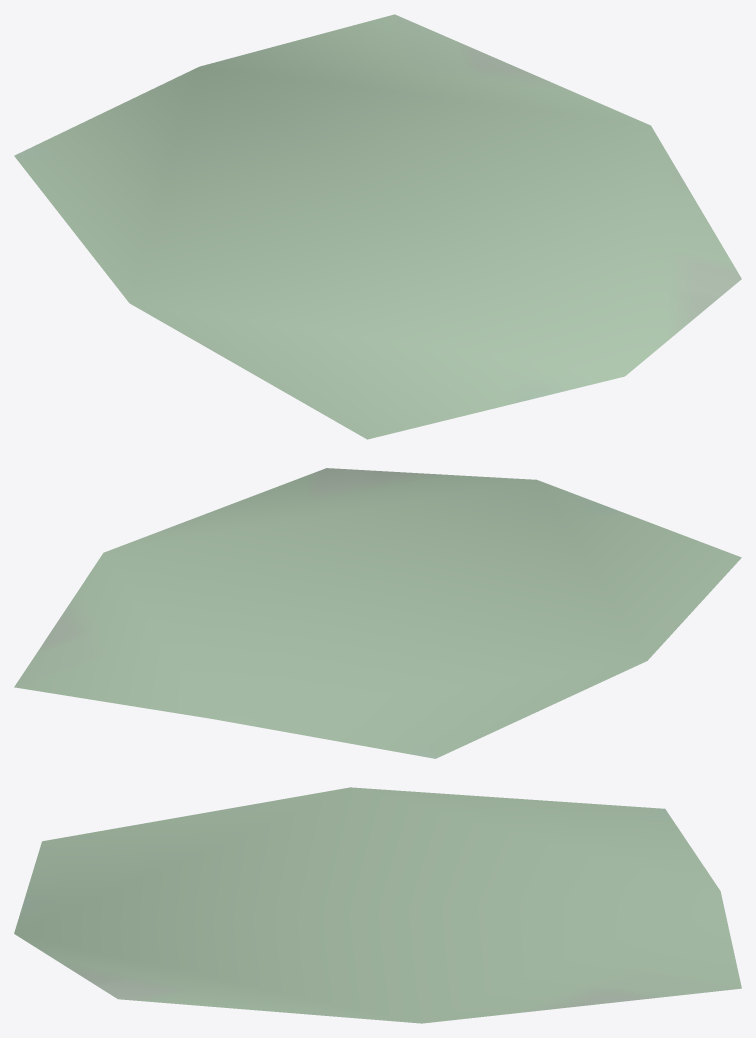
File: TROLLHOLE02_HOLECAP213.fbx
3 renders of one model, top to bottom at view 1: azimuth 30°, elevation 25°; view 2: azimuth 150°, elevation 25°; view 3: azimuth 270°, elevation 25°, orthographic. The views are drawn at different scales.
Parts seen in each view (by area): view 1: TROLLHOLE02_HOLECAP213; view 2: TROLLHOLE02_HOLECAP213; view 3: TROLLHOLE02_HOLECAP213.
Part boxes in pixels (x1,y1,x2,y2): TROLLHOLE02_HOLECAP213: (14,14,741,439); TROLLHOLE02_HOLECAP213: (14,468,741,758); TROLLHOLE02_HOLECAP213: (14,787,741,1023).
Size of the model in its own units: 11475 by 906 by 14306.
1 material, 1 textured.
